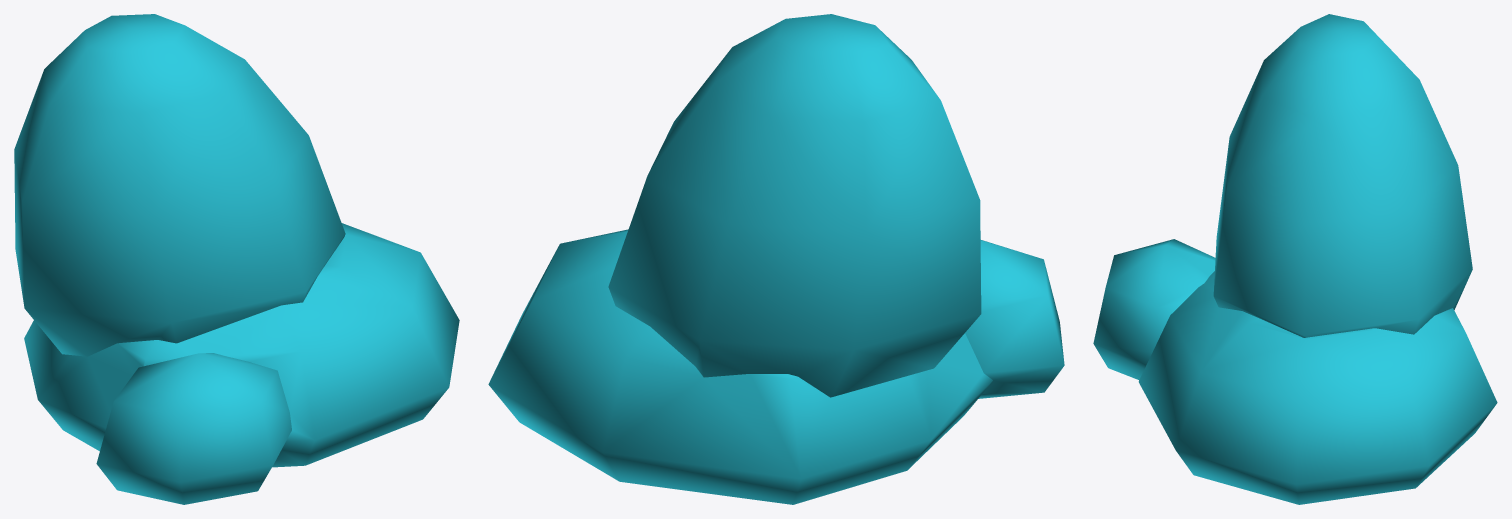
The model's file is Holo_Ore.glb.
The picture shows the model from 3 angles, left to right: view 1: azimuth 30°, elevation 25°; view 2: azimuth 150°, elevation 25°; view 3: azimuth 270°, elevation 25°; orthographic projection. The views are drawn at different scales.
Visible parts, largest first — view 1: Holo_Ore; view 2: Holo_Ore; view 3: Holo_Ore.
Part boxes in pixels (x1,y1,x2,y2): Holo_Ore: (14,14,459,504); Holo_Ore: (488,14,1064,504); Holo_Ore: (1093,14,1497,504).
Bounding box in the file's own units: 1.36 × 1.17 × 1.22.
